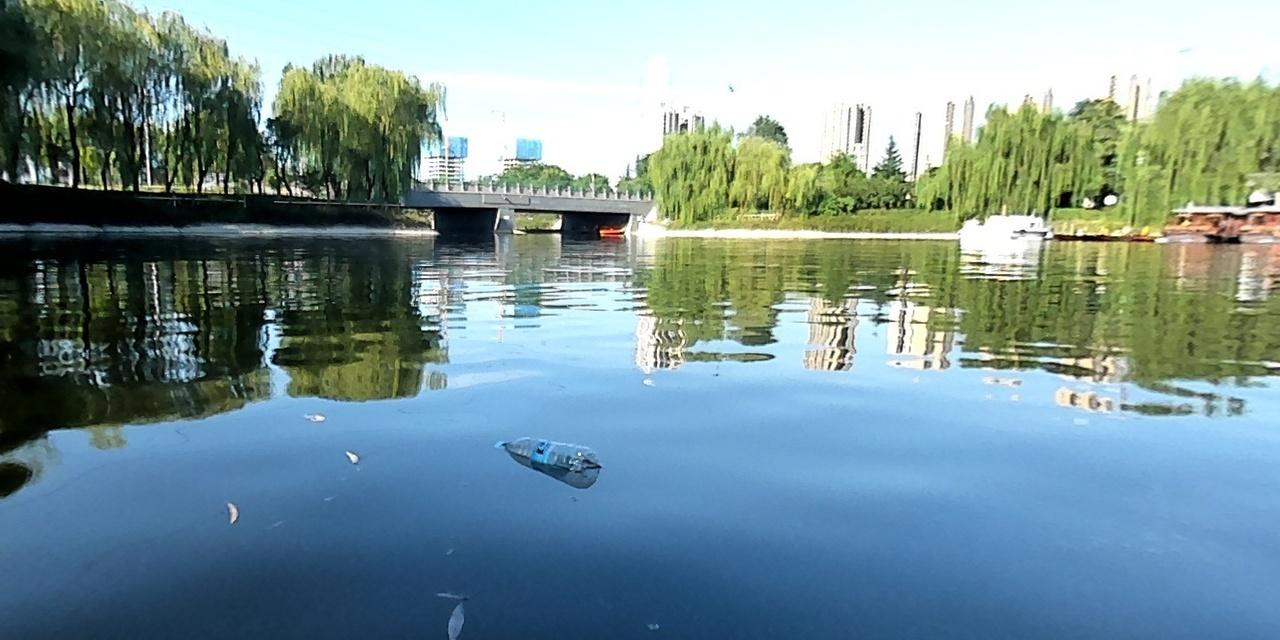bottle: (493, 432, 603, 477)
